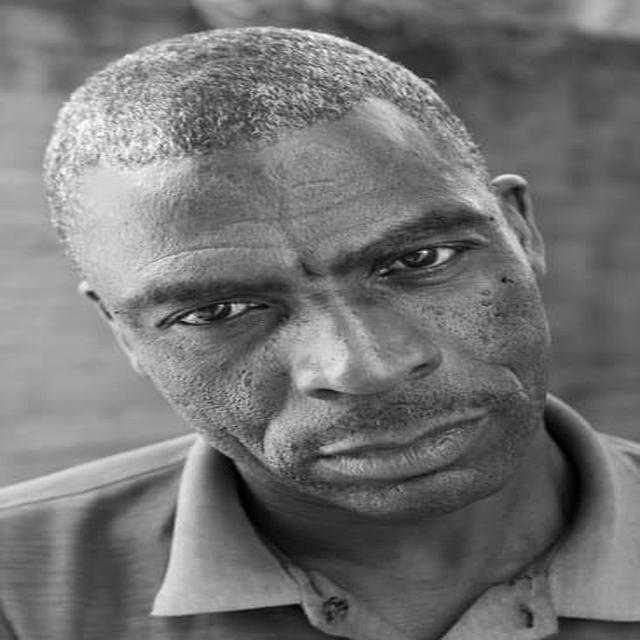Sadness: (94, 111, 544, 521)
